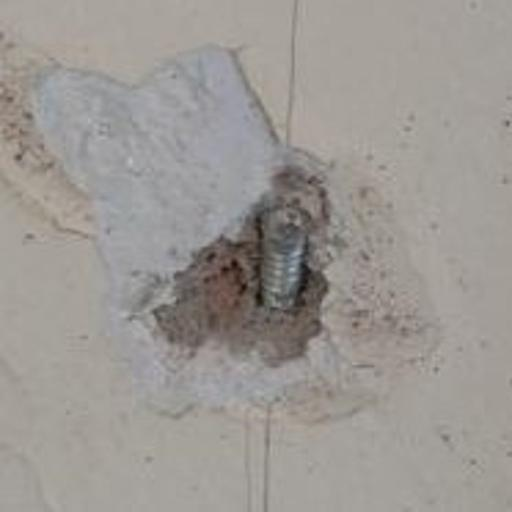spalling: (120, 68, 429, 421)
